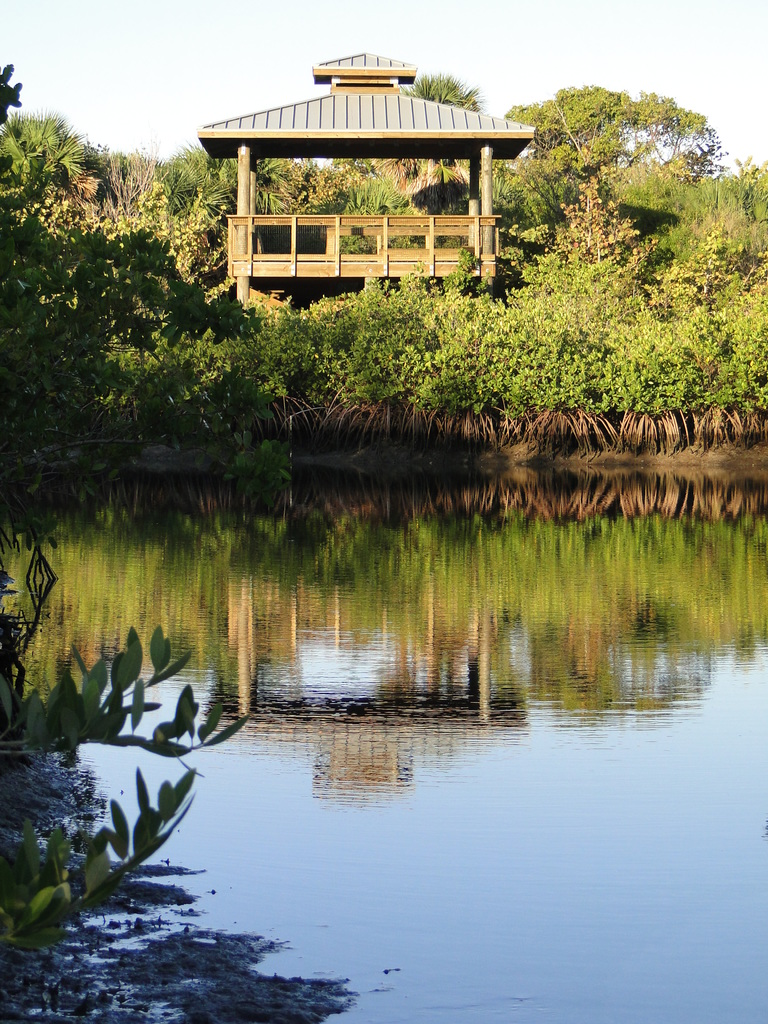Tree: (528, 65, 712, 279), (147, 140, 293, 280), (381, 60, 479, 163), (0, 107, 99, 190)
